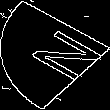N_SE: (10, 23, 100, 87)
